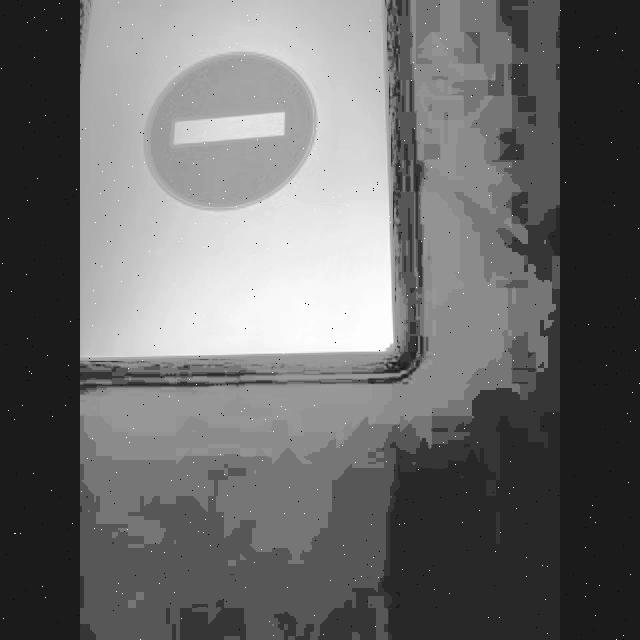NO ENTRY: (146, 53, 318, 209)
